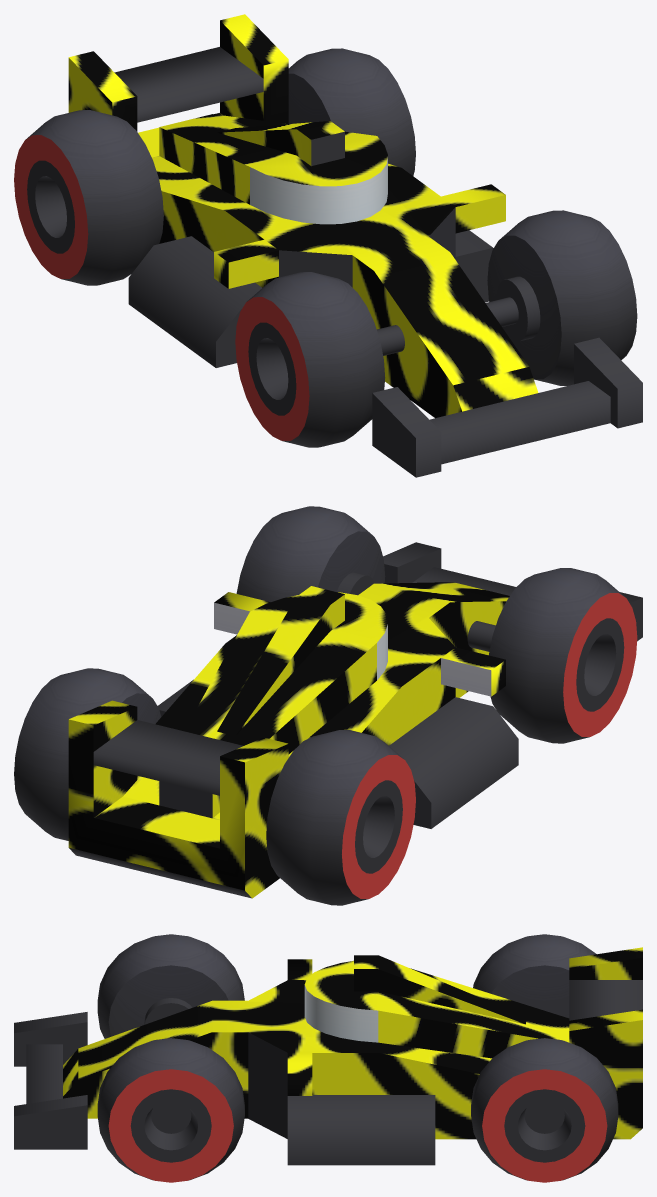
File: racecar-wild.glb
3 views of the same model, one above another, from view 1: azimuth 30°, elevation 25°; view 2: azimuth 150°, elevation 25°; view 3: azimuth 270°, elevation 25° (orthographic). The views are drawn at different scales.
Visible parts, largest first — view 1: body; view 2: body; view 3: body.
Boxes of the visible parts, bbox=[...] form: body: bbox=[14, 14, 642, 477]; body: bbox=[14, 506, 642, 905]; body: bbox=[14, 934, 642, 1182].
Bounding box in the file's own units: 1.3 × 0.7325 × 2.56.
Materials: 1 (1 with a texture image).
